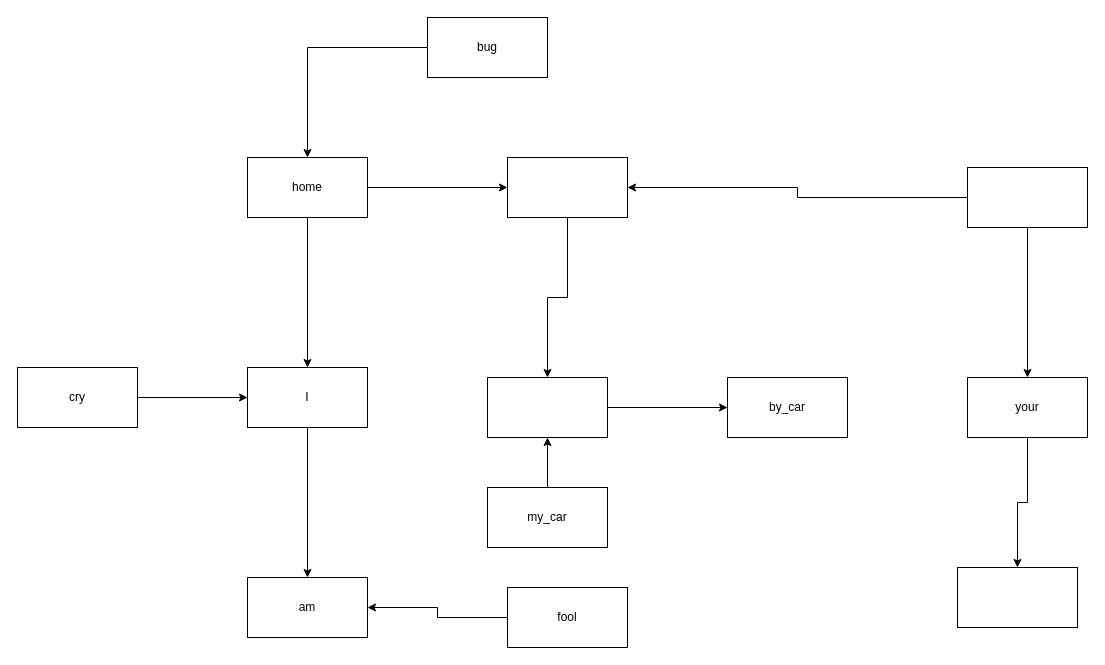
This 1105x665 diagram has some shape labels left out. The centre of each missing label's shape, as x and y in pixels:
and: point 1027,197
brother: point 1017,597
crushed: point 547,407
you: point 567,187
